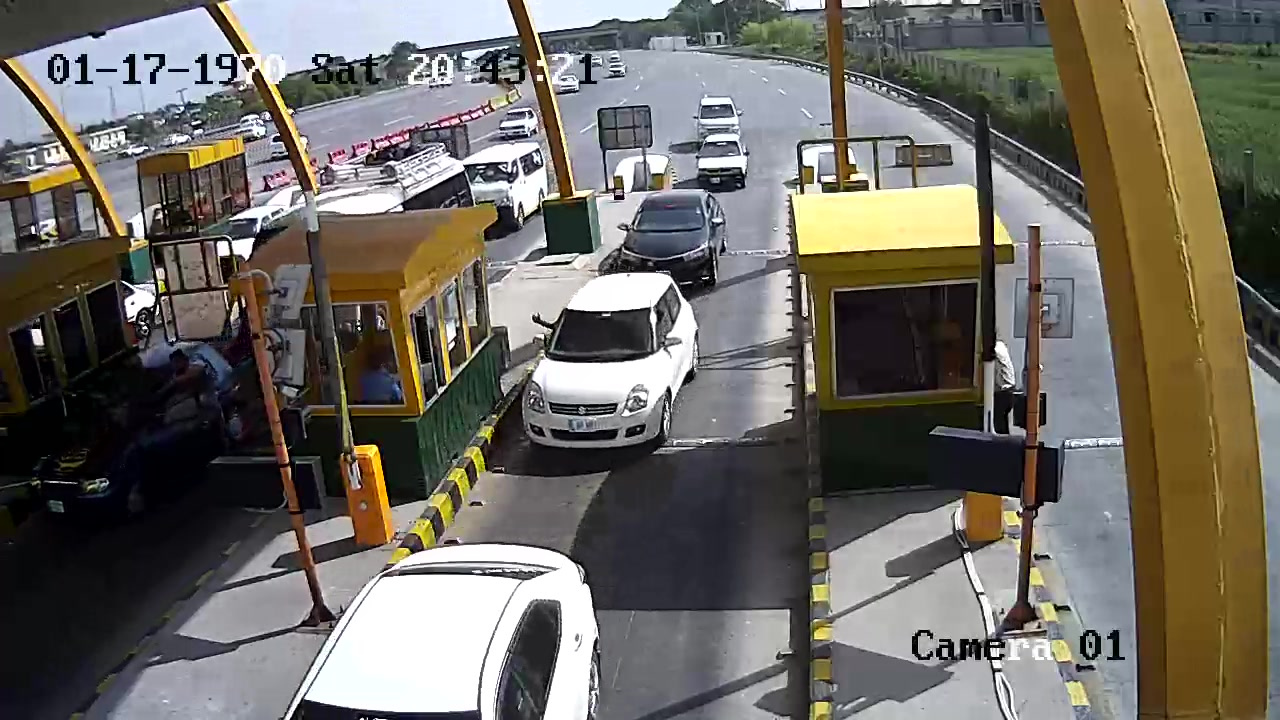F1: (505, 268, 703, 465)
